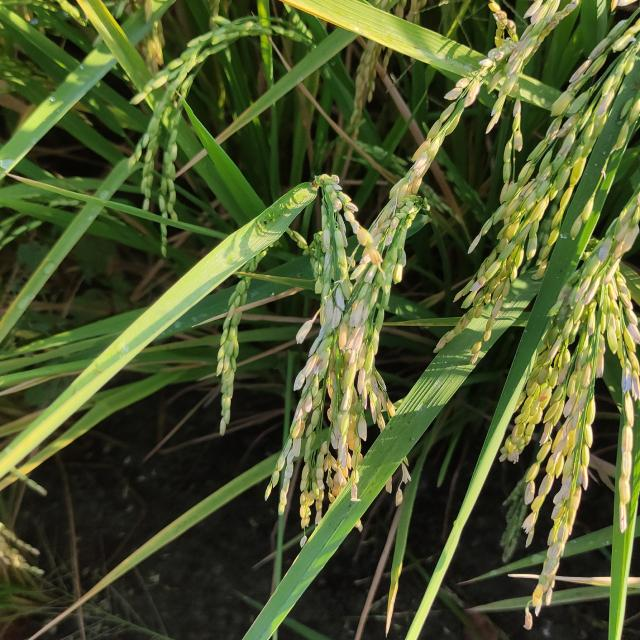Brown spot: (216, 98, 259, 143), (3, 170, 72, 198), (174, 146, 204, 180)
insects: (322, 499, 358, 535), (386, 410, 420, 446), (355, 462, 387, 496)
